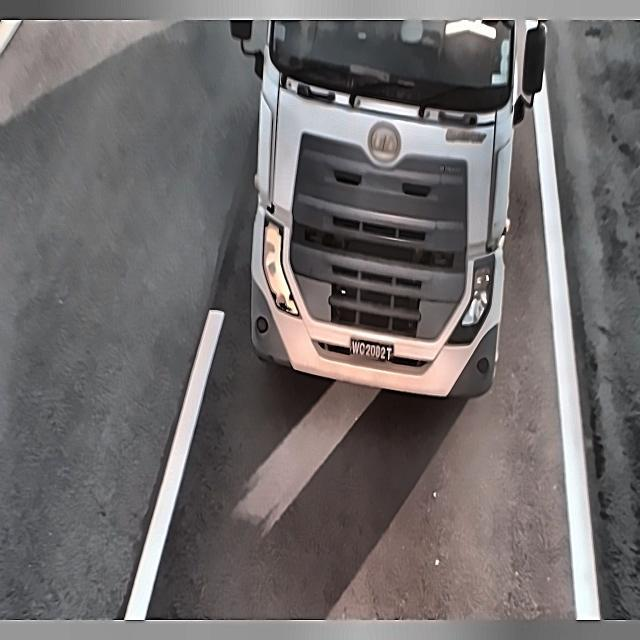car: (342, 333, 402, 371)
